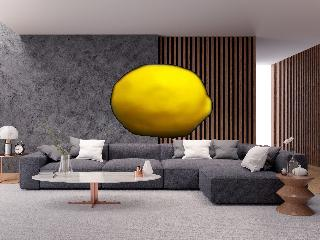lemon: (110, 64, 211, 136)
